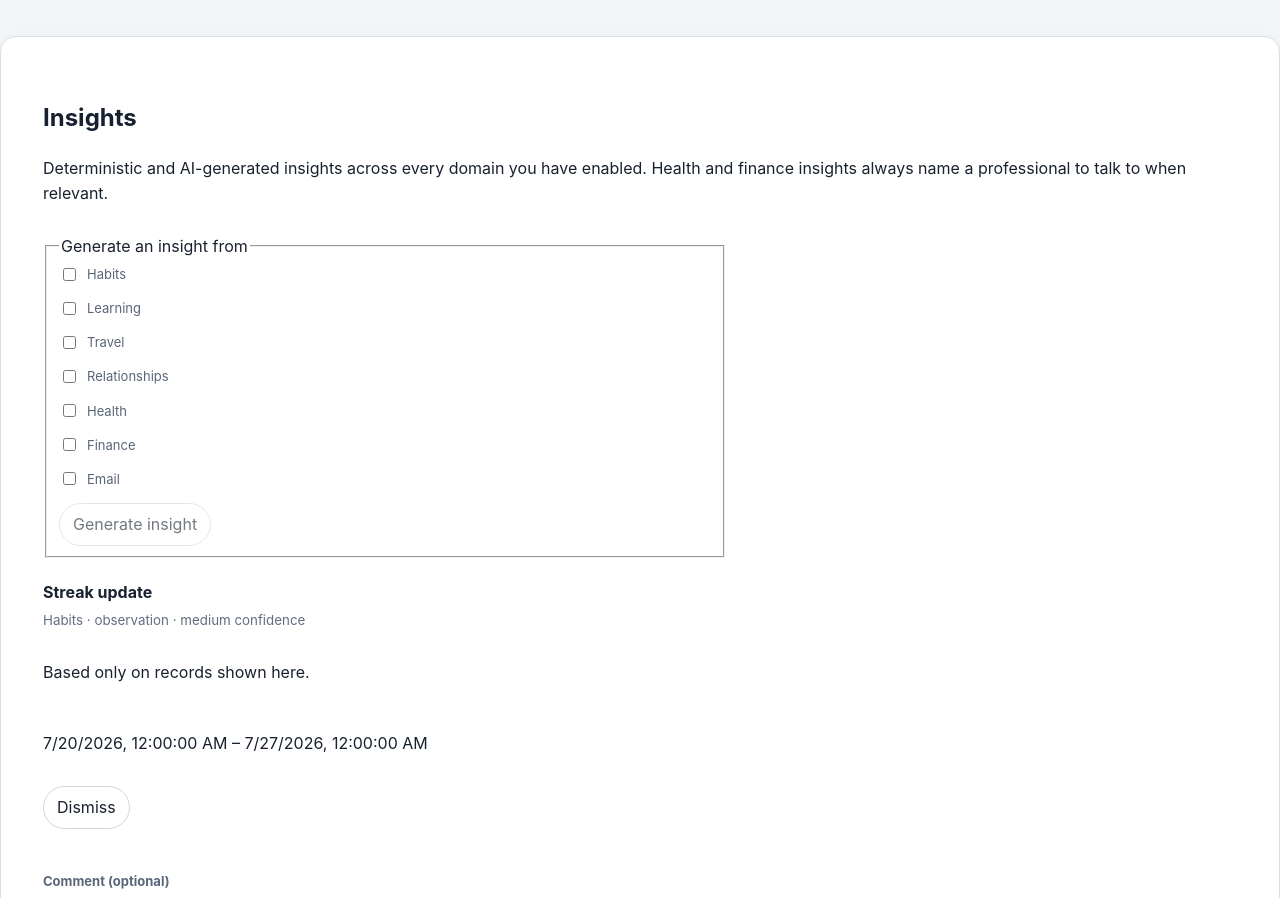
it: InsightsPanel › dismisses an insight, which then disappears once the list refetches
Click the button "Dismiss": (86, 807) [43,786,130,829]
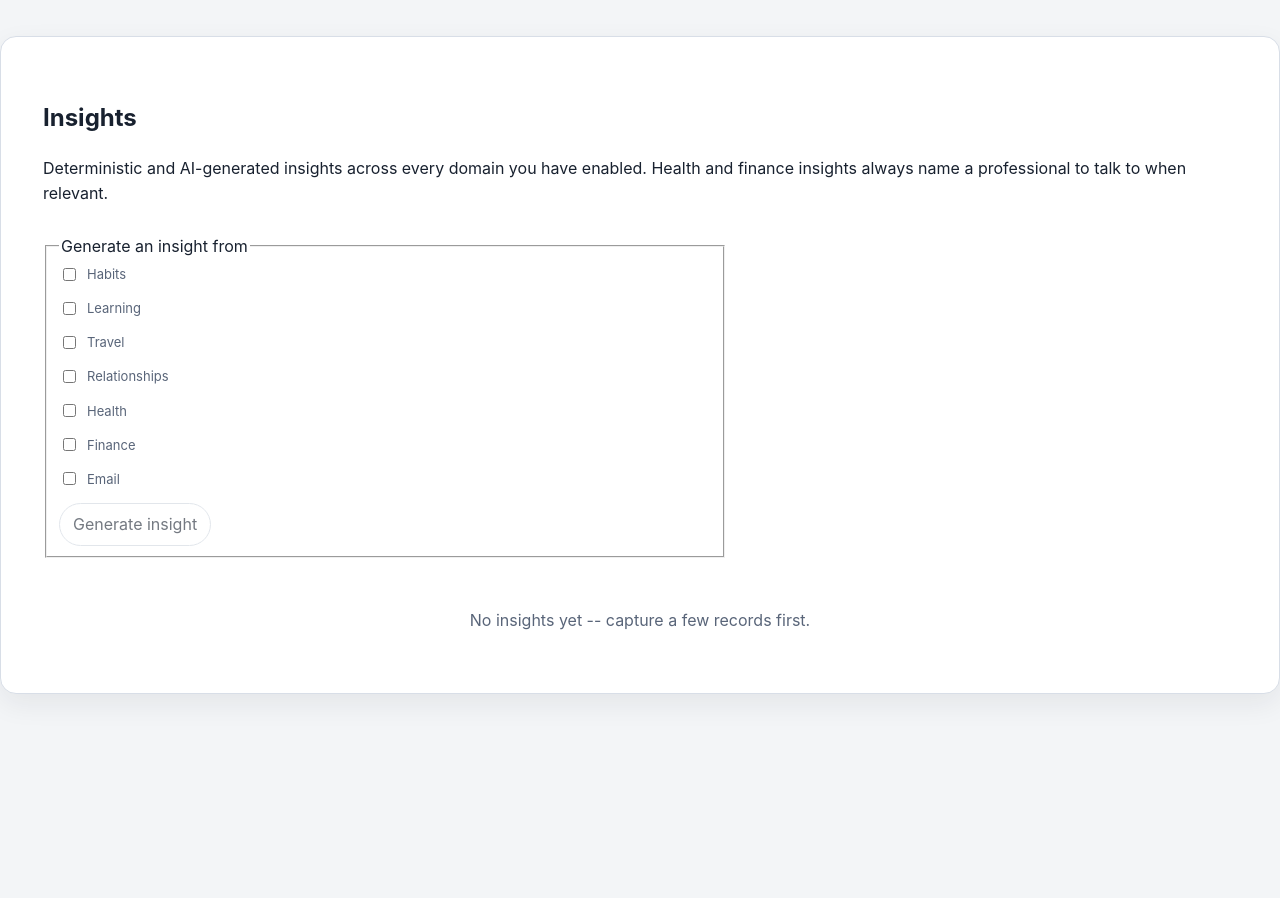
Expected: the text "No insights yet -- capture a few records first." is shown, [470,610,810,630]
Expected: the text "Streak update" is gone
